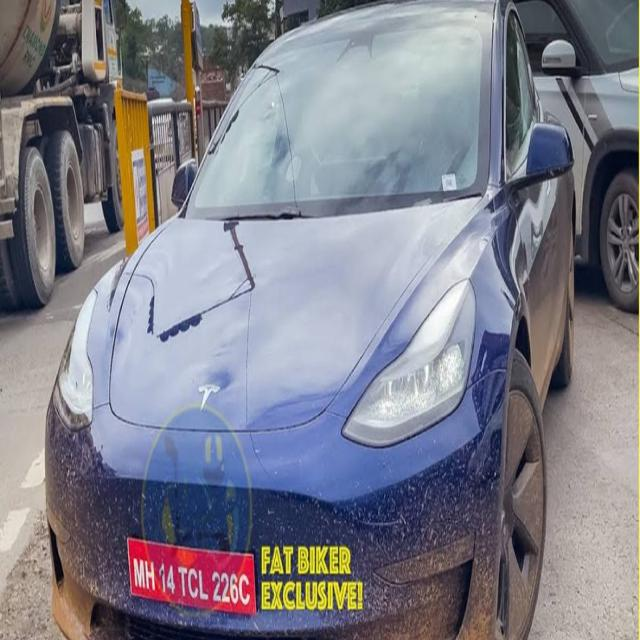plate: (126, 533, 258, 618)
